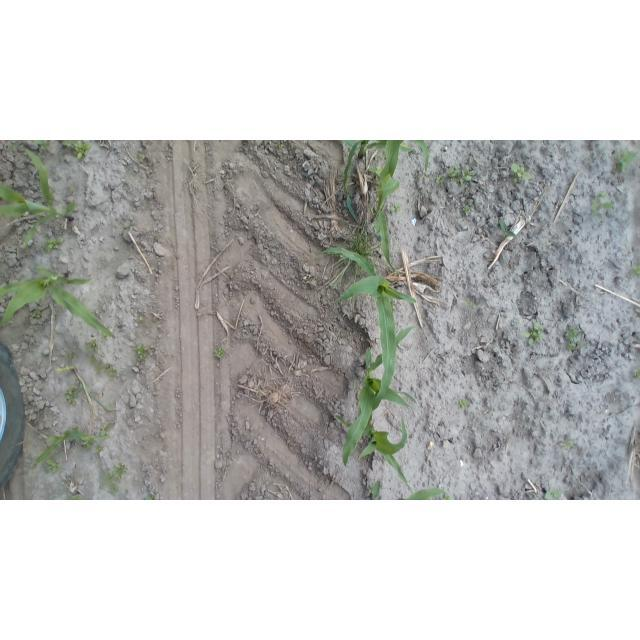Maize: (316, 247, 417, 402), (342, 325, 416, 468), (0, 267, 116, 340), (1, 145, 77, 249), (344, 140, 429, 224), (335, 414, 414, 494), (371, 141, 406, 272), (33, 429, 108, 470), (57, 364, 116, 413), (397, 488, 444, 500), (372, 479, 380, 499), (68, 493, 84, 500), (145, 495, 153, 500)
Weeds: (350, 213, 381, 253), (614, 149, 639, 175), (567, 324, 589, 352), (592, 191, 612, 220), (62, 141, 93, 159), (524, 321, 544, 345), (449, 166, 474, 184), (512, 164, 531, 185), (106, 464, 128, 480), (499, 221, 517, 240), (45, 237, 64, 253), (104, 364, 119, 381), (36, 140, 52, 153), (46, 460, 61, 473), (137, 344, 149, 359), (67, 387, 77, 405), (545, 489, 561, 500), (368, 166, 380, 180), (108, 480, 118, 495), (630, 265, 640, 277), (66, 352, 76, 363), (97, 358, 103, 376), (562, 440, 574, 448), (134, 317, 147, 324), (87, 340, 97, 349), (215, 349, 224, 359), (96, 445, 106, 454), (32, 310, 43, 318), (435, 175, 444, 184), (136, 154, 145, 163), (464, 205, 472, 215), (378, 151, 386, 160), (391, 206, 401, 213), (634, 367, 640, 378), (459, 400, 468, 407), (442, 493, 450, 500), (91, 357, 97, 366), (102, 428, 108, 437), (101, 335, 108, 342), (277, 142, 283, 150), (467, 300, 472, 306)
